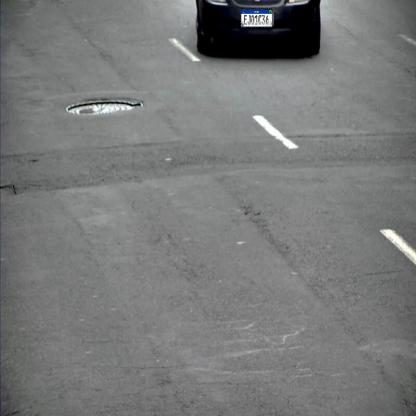PlacaM: (241, 8, 272, 28)
